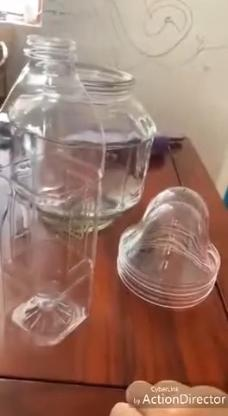Plastic Bottle: (1, 35, 106, 346)
